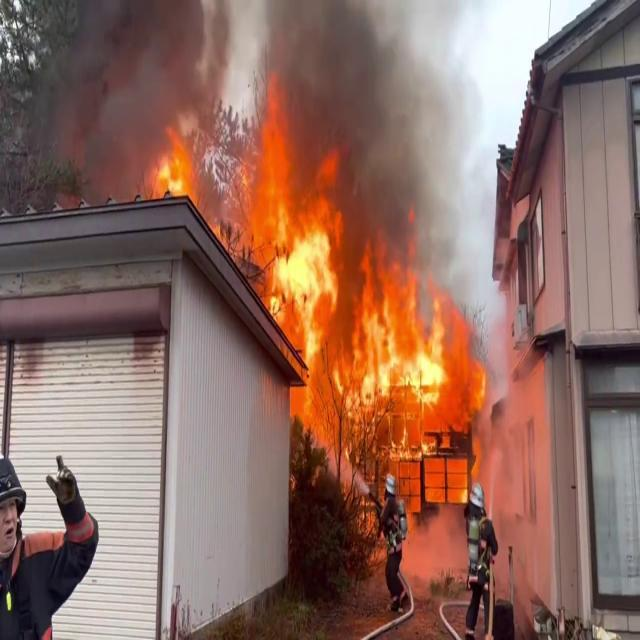Fire: (234, 124, 492, 499)
Smoke: (289, 0, 484, 255), (3, 1, 235, 176)
